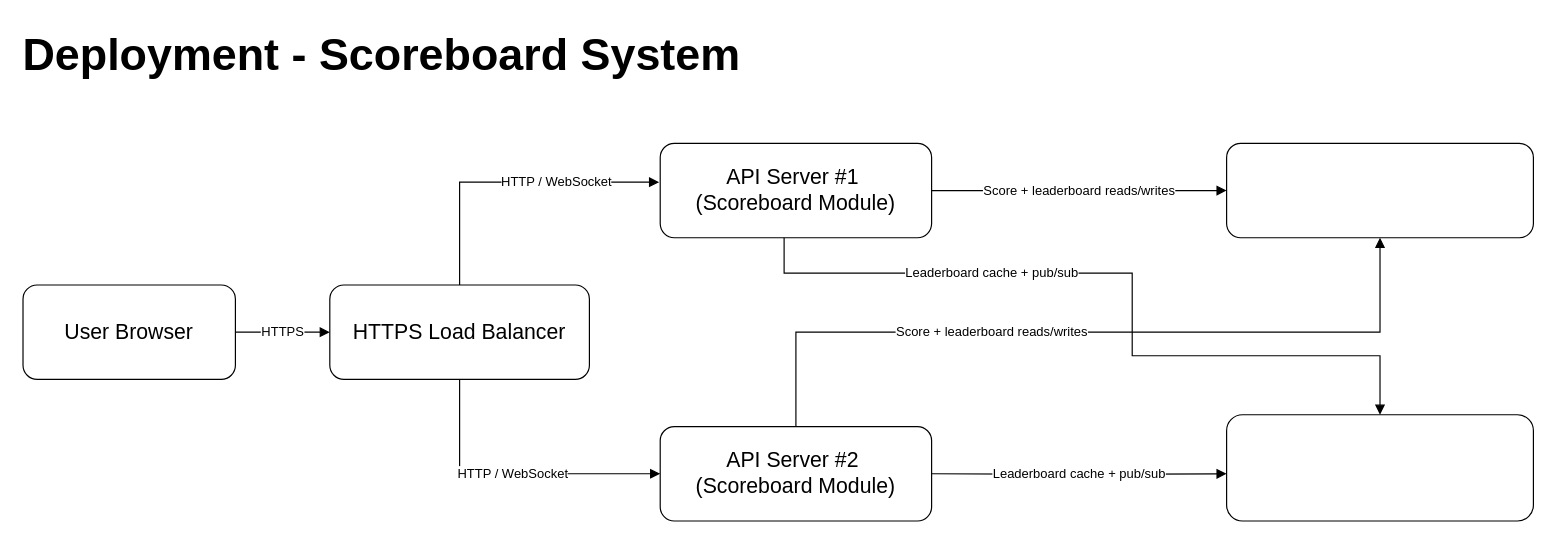
This 1554x542 diagram has some shape labels left out. The shapes that lost their labels are listed below. From the top down, each one's box as (x1, y1, x2, y2) in pixels, then its label:
(1225, 142, 1533, 238): Database Cluster (Primary + Replica)
(1225, 414, 1533, 521): Redis Cluster (Cache + Pub/Sub)
